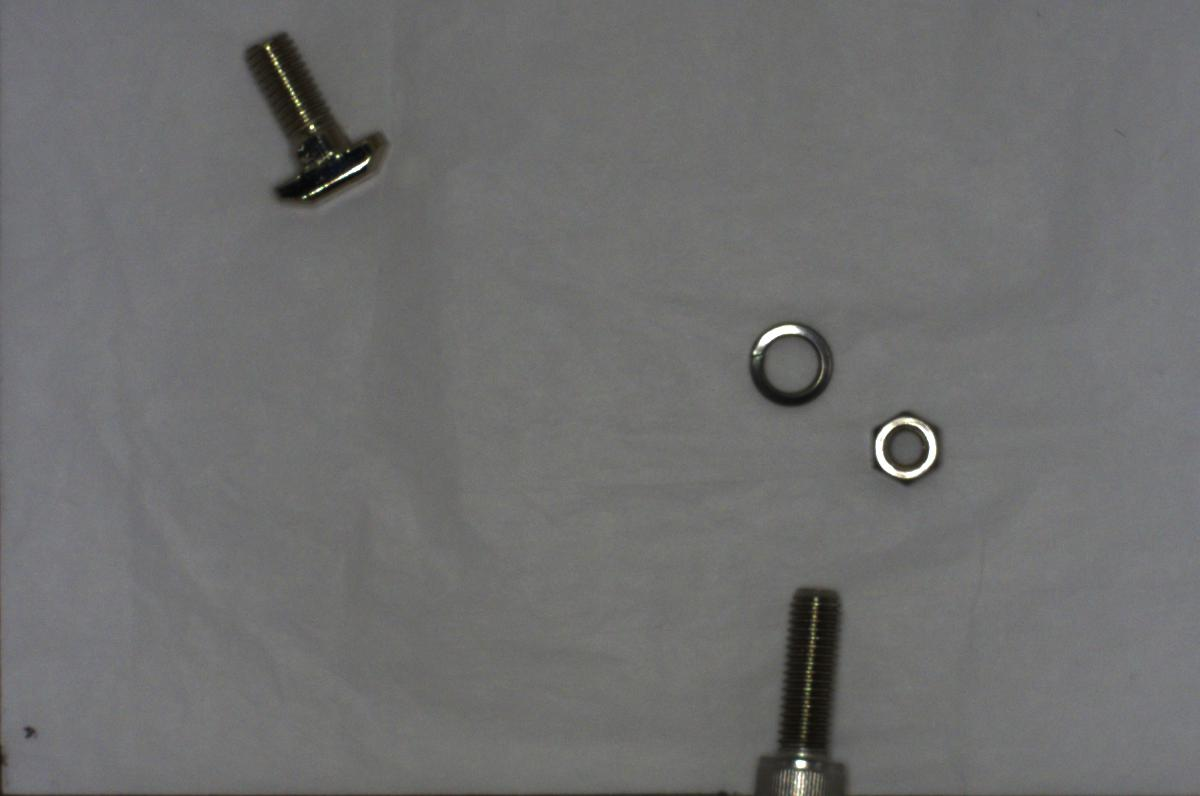Hexagon nut: (858, 402, 951, 499)
Hexagon screw: (747, 578, 861, 795)
Spring washer: (740, 308, 834, 420)
T-shaped screw: (239, 21, 398, 212)
